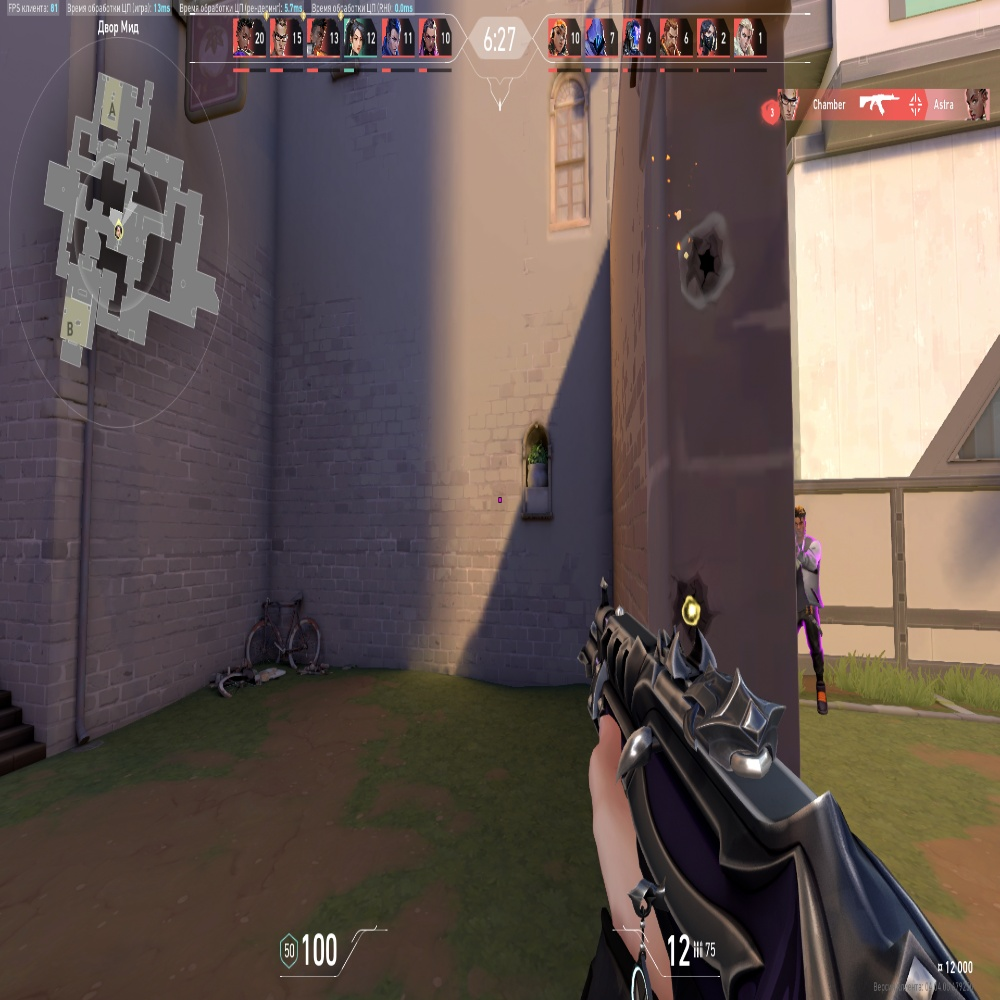body: (794, 541, 818, 609)
head: (794, 508, 805, 537)
